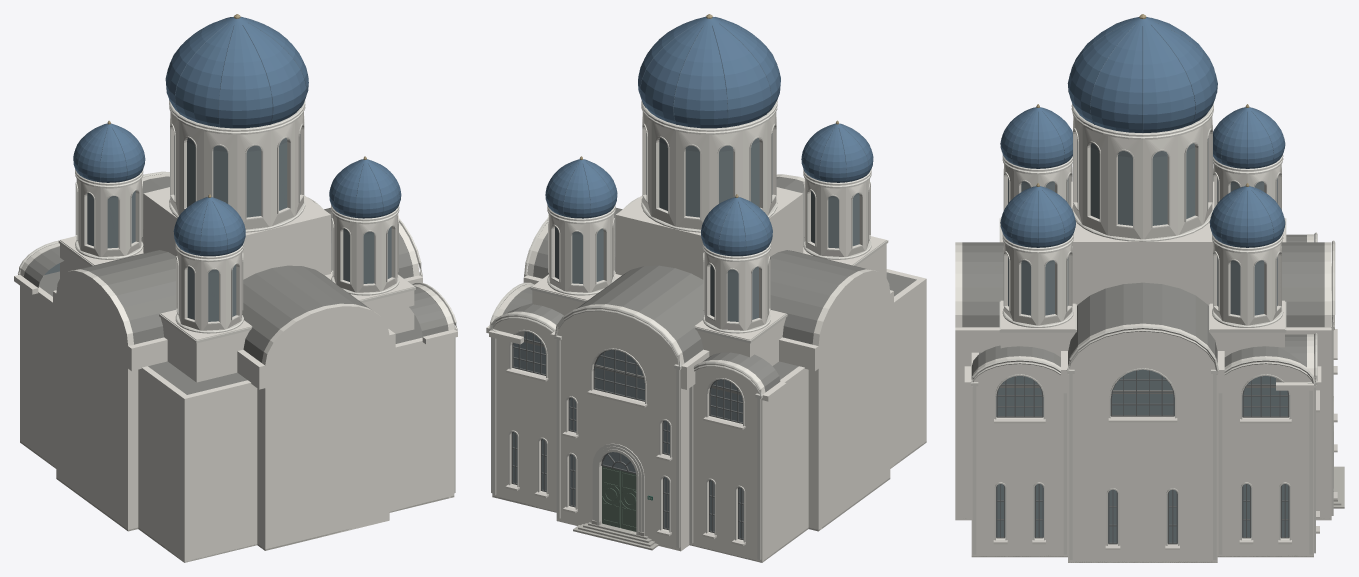
File: xuhui-xinle-orthodox-cathedral-lod.glb
3 renders of one model, left to right at view 1: azimuth 30°, elevation 25°; view 2: azimuth 150°, elevation 25°; view 3: azimuth 270°, elevation 25°, orthographic. The views are drawn at different scales.
Visible parts, largest first — view 1: 圣母大堂（新乐路东正教堂）; view 2: 圣母大堂（新乐路东正教堂）; view 3: 圣母大堂（新乐路东正教堂）.
Boxes of the visible parts, x1=… form: 圣母大堂（新乐路东正教堂）: x1=14, y1=14, x2=457, y2=562; 圣母大堂（新乐路东正教堂）: x1=486, y1=14, x2=926, y2=562; 圣母大堂（新乐路东正教堂）: x1=955, y1=14, x2=1344, y2=562.
Bounding box in the file's own units: 23.83 × 35 × 26.05.
